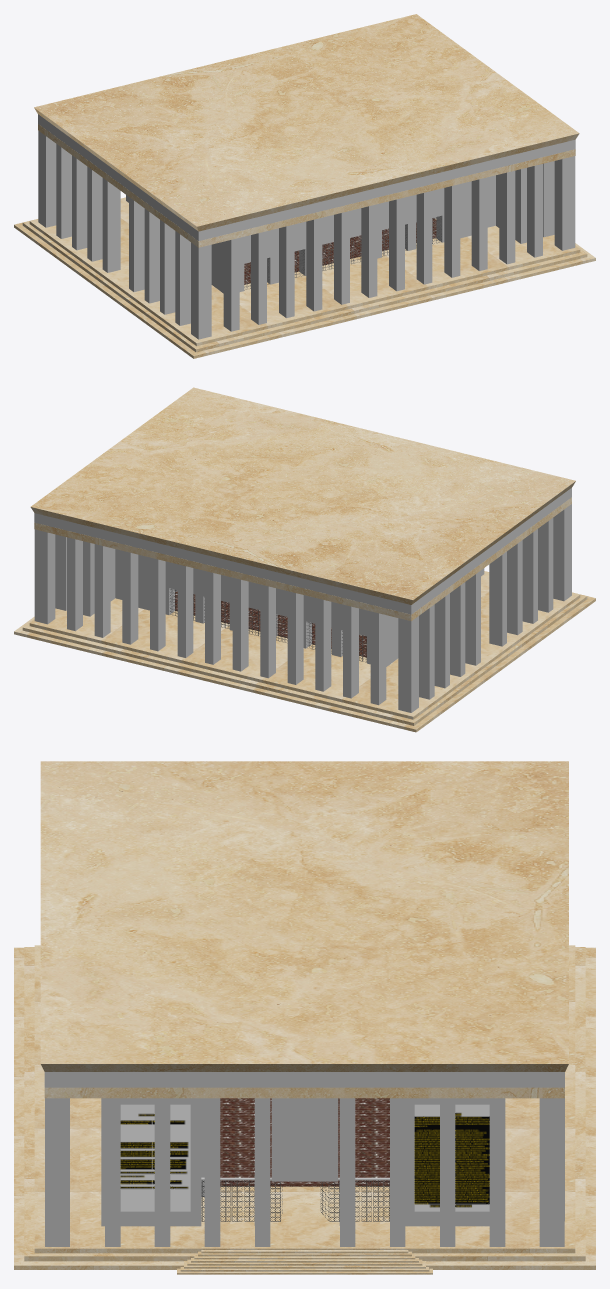
File: anitkabirson.fbx
3 views of the same model, one above another, from view 1: azimuth 30°, elevation 25°; view 2: azimuth 150°, elevation 25°; view 3: azimuth 270°, elevation 25° (orthographic). The views are drawn at different scales.
Parts seen in each view (by area): view 1: Cube.052, Cube.046, Cube.102, Cube.087, Cube.044, Cube.045, Cube.101, Cube, Cube.002, Cube.003, Cube.016, Cube.094 (+21 smaller); view 2: Cube.052, Cube.046, Cube.102, Cube.088, Cube.044, Cube.045, Cube.101, Cube.001, Cube.003, Cube.002, Cube.015, Cube.023 (+21 smaller); view 3: Cube.052, Cube.046, Cube.044, Cube.045, Cube.102, Cube.104, Cube.100, Cube.101, Cube.099, Plane.019, Cube.001, Cube (+20 smaller).
Boxes of the visible parts, box(x1,y1,x2,y2) form: Cube.052: box(34, 14, 579, 231); Cube.046: box(29, 197, 580, 346); Cube.102: box(38, 114, 575, 240); Cube.087: box(220, 181, 471, 293); Cube.044: box(14, 220, 595, 358); Cube.045: box(22, 197, 587, 352); Cube.101: box(38, 124, 575, 247); Cube: box(554, 156, 575, 250); Cube.002: box(191, 242, 211, 339); Cube.003: box(38, 131, 56, 227); Cube.016: box(102, 178, 120, 272); Cube.094: box(487, 168, 526, 243); Cube.052: box(30, 387, 575, 604); Cube.046: box(29, 571, 580, 719); Cube.102: box(34, 488, 571, 614); Cube.088: box(138, 554, 391, 666); Cube.044: box(14, 571, 595, 732); Cube.045: box(22, 572, 587, 725); Cube.101: box(34, 497, 571, 621); Cube.001: box(34, 529, 55, 624); Cube.003: box(398, 616, 418, 712); Cube.002: box(553, 504, 571, 601); Cube.015: box(489, 551, 506, 646); Cube.023: box(287, 591, 303, 684); Cube.052: box(40, 761, 568, 1071); Cube.046: box(34, 945, 575, 1253); Cube.044: box(14, 947, 595, 1269); Cube.045: box(24, 947, 585, 1261); Cube.102: box(44, 1072, 564, 1087); Cube.104: box(220, 1098, 389, 1186); Cube.100: box(414, 1104, 489, 1211); Cube.101: box(44, 1087, 564, 1098); Cube.099: box(120, 1104, 190, 1211); Plane.019: box(271, 1098, 338, 1181); Cube.001: box(539, 1098, 564, 1246); Cube: box(45, 1098, 69, 1246).
Bounding box in the file's own units: 6604 × 1909 × 5038.
